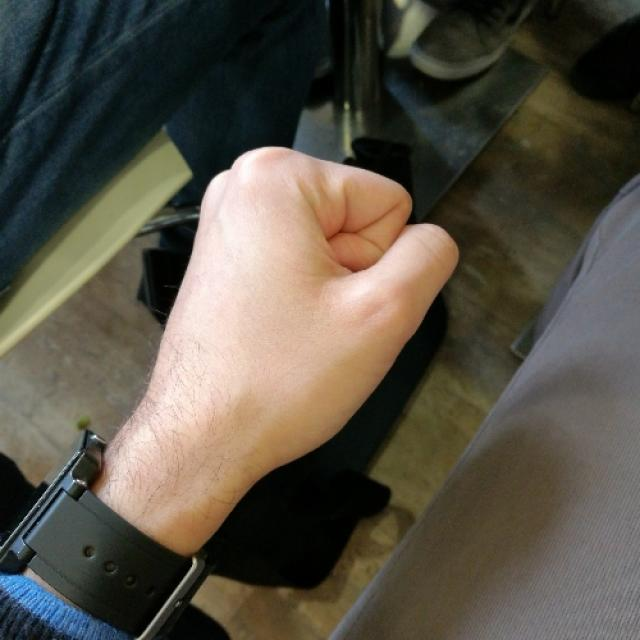rock: (152, 146, 458, 454)
